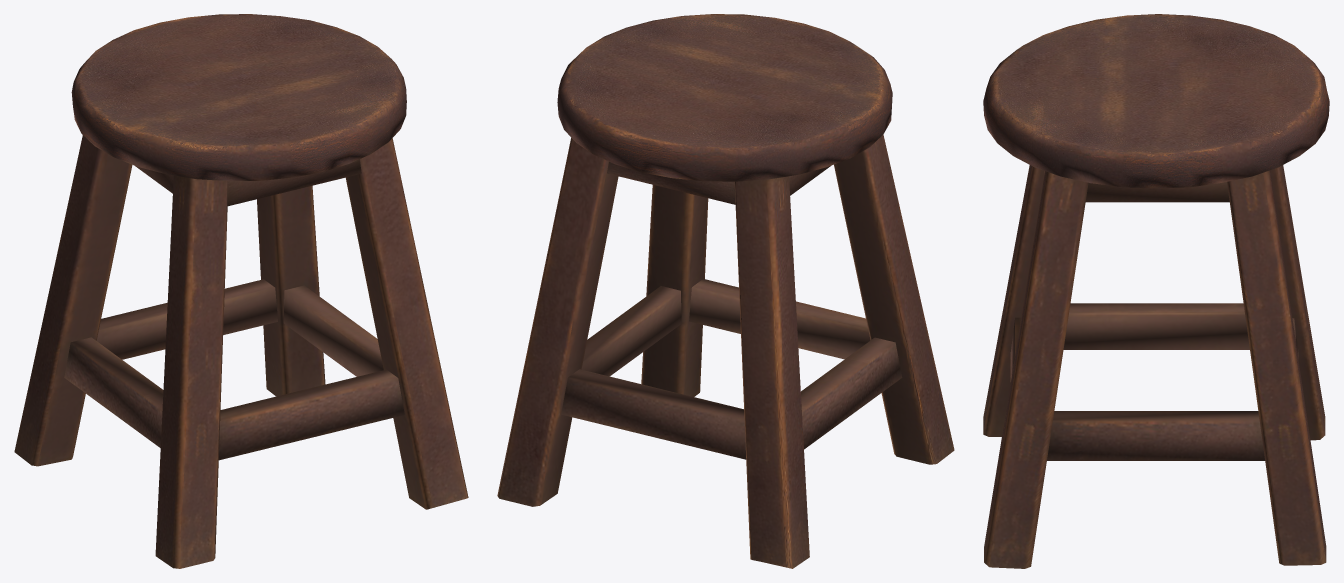
Rendered from shop-stool.glb.
3 renders of one model, left to right at view 1: azimuth 30°, elevation 25°; view 2: azimuth 150°, elevation 25°; view 3: azimuth 270°, elevation 25°, orthographic. The views are drawn at different scales.
Visible parts, largest first — view 1: tripo_node_a56c5da3-74e7-4767-9911-0d3ec86e4f23; view 2: tripo_node_a56c5da3-74e7-4767-9911-0d3ec86e4f23; view 3: tripo_node_a56c5da3-74e7-4767-9911-0d3ec86e4f23.
Boxes of the visible parts, left/top/right/bottom form: tripo_node_a56c5da3-74e7-4767-9911-0d3ec86e4f23: left=14, top=14, right=468, bottom=568; tripo_node_a56c5da3-74e7-4767-9911-0d3ec86e4f23: left=497, top=14, right=954, bottom=568; tripo_node_a56c5da3-74e7-4767-9911-0d3ec86e4f23: left=983, top=14, right=1329, bottom=568.
Size of the model in its own units: 0.7793 by 0.998 by 0.7637.
1 material, 1 textured.
